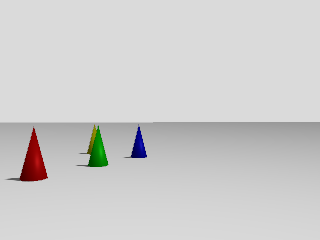blue: (130, 123, 147, 160)
green: (88, 125, 109, 168)
red: (20, 126, 48, 182)
yellow: (87, 123, 96, 153)
